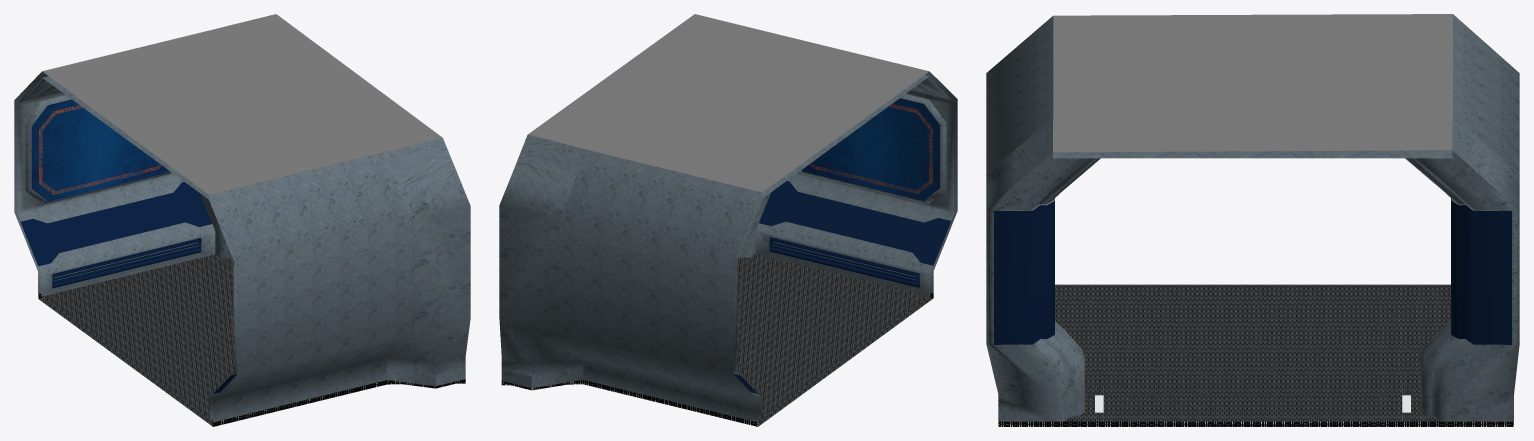
Rendered from pasillo_hangar-salaespera.obj.
3 renders of one model, left to right at view 1: azimuth 30°, elevation 25°; view 2: azimuth 150°, elevation 25°; view 3: azimuth 270°, elevation 25°, orthographic. The views are drawn at different scales.
Visible parts, largest first — view 1: polySurface1165, pared1 polySurface1165; view 2: polySurface1165, pared1 polySurface1165, azul2 polySurface1165; view 3: polySurface1165, pared1 polySurface1165, azul2 polySurface1165.
Boxes of the visible parts, left/top/right/bottom form: polySurface1165: left=20, top=14, right=470, bottom=426; pared1 polySurface1165: left=14, top=71, right=232, bottom=296; polySurface1165: left=501, top=14, right=957, bottom=426; pared1 polySurface1165: left=499, top=135, right=761, bottom=422; azul2 polySurface1165: left=759, top=181, right=950, bottom=287; polySurface1165: left=986, top=14, right=1513, bottom=426; pared1 polySurface1165: left=1405, top=14, right=1519, bottom=421; azul2 polySurface1165: left=994, top=201, right=1054, bottom=344.
Bounding box in the file's own units: 18 × 16.86 × 29.45.
6 materials, 4 textured.
